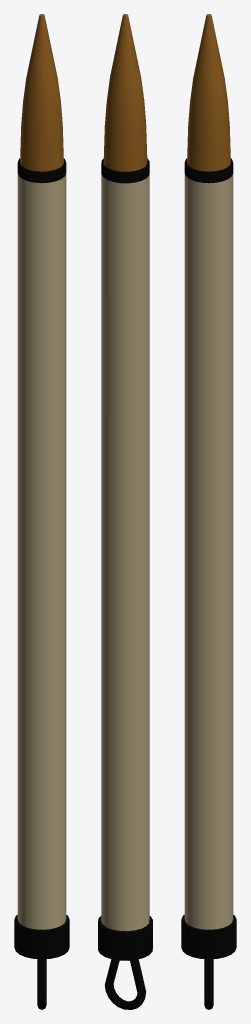
Rendered from SM_CalligraphyPen.fbx.
3 views of the same model, side by side, from view 1: azimuth 90°, elevation 25°; view 2: azimuth 150°, elevation 25°; view 3: azimuth 270°, elevation 25° (orthographic).
Parts seen in each view (by area): view 1: CalligraphyPen; view 2: CalligraphyPen; view 3: CalligraphyPen.
Boxes of the visible parts, bbox=[...] form: CalligraphyPen: bbox=[14, 14, 69, 1009]; CalligraphyPen: bbox=[98, 14, 152, 1009]; CalligraphyPen: bbox=[181, 14, 236, 1009].
Bounding box in the file's own units: 0.024 × 0.4757 × 0.024.
